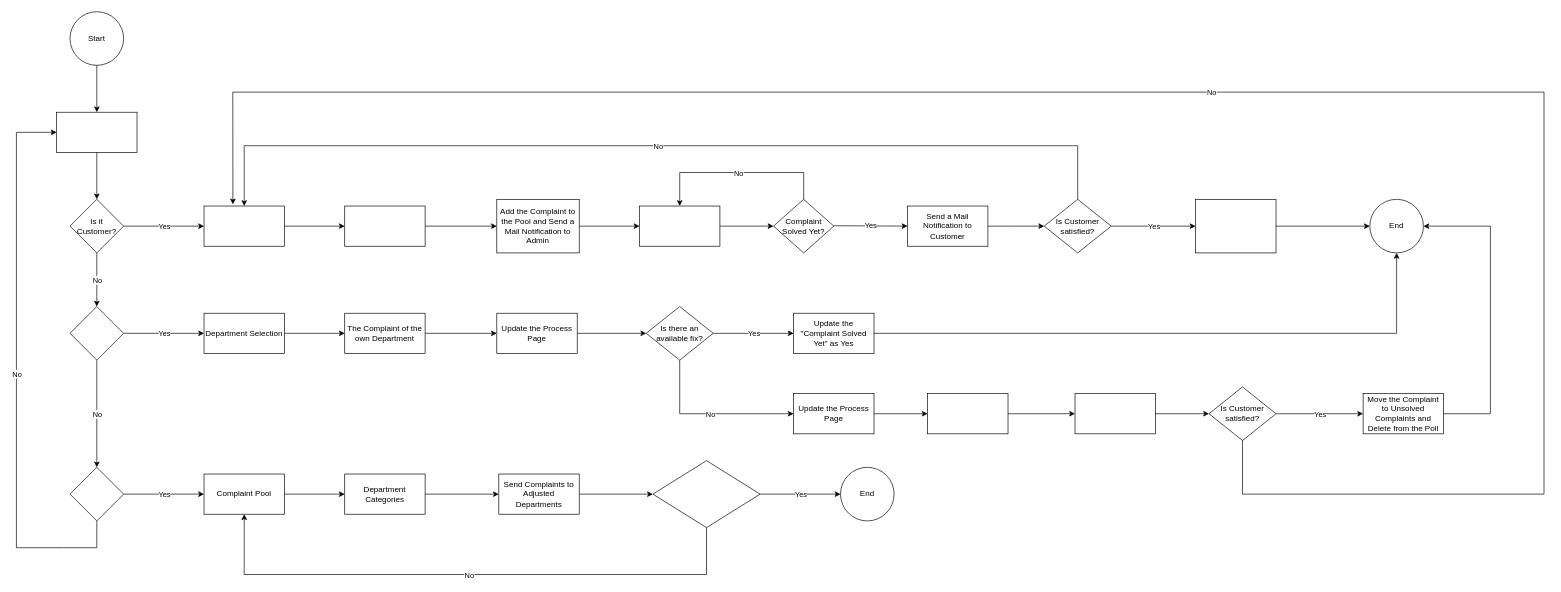
The diagram is 1561 pixels wide and 592 high, and some of its shapes have lost their labels. Here are the shapes that lost their labels. From the top down, the box of each, then its label:
(56, 112, 137, 152): Login Page
(203, 205, 284, 246): Complaint Page
(344, 205, 425, 246): Collect the Datas
(639, 205, 720, 246): Process Page
(1195, 199, 1276, 253): Move the Complaint to the Solved Complaints of Customer and Delete from the Pool
(69, 306, 124, 360): Is it Employee?
(927, 393, 1008, 434): Report Page
(1074, 393, 1155, 434): Send a Retake Notification to Customer
(69, 467, 124, 521): Is it Admin?
(652, 460, 760, 528): Do all of the Complaints cleared from the Pool?
